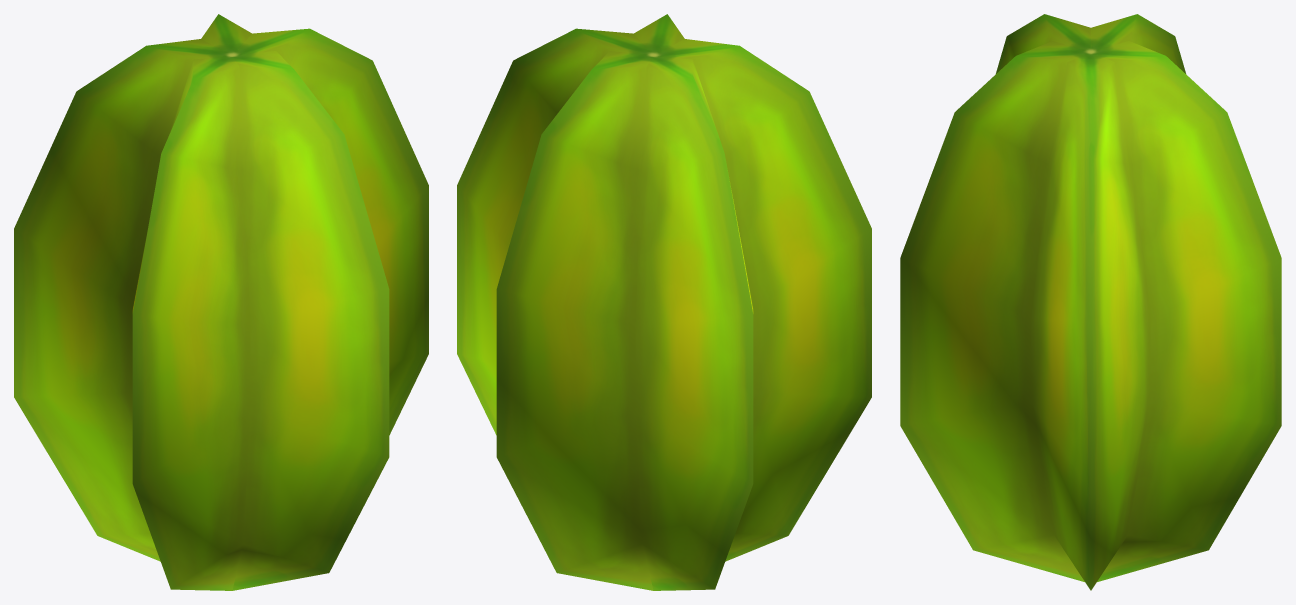
File: star fruit.fbx
The picture shows the model from 3 angles, left to right: view 1: azimuth 30°, elevation 25°; view 2: azimuth 150°, elevation 25°; view 3: azimuth 270°, elevation 25°; orthographic projection.
Parts seen in each view (by area): view 1: star fruit; view 2: star fruit; view 3: star fruit.
Part boxes in pixels (x1,y1,x2,y2): star fruit: (14, 14, 428, 590); star fruit: (457, 14, 871, 590); star fruit: (900, 14, 1281, 590).
Bounding box in the file's own units: 1.68 × 2.46 × 1.57.
